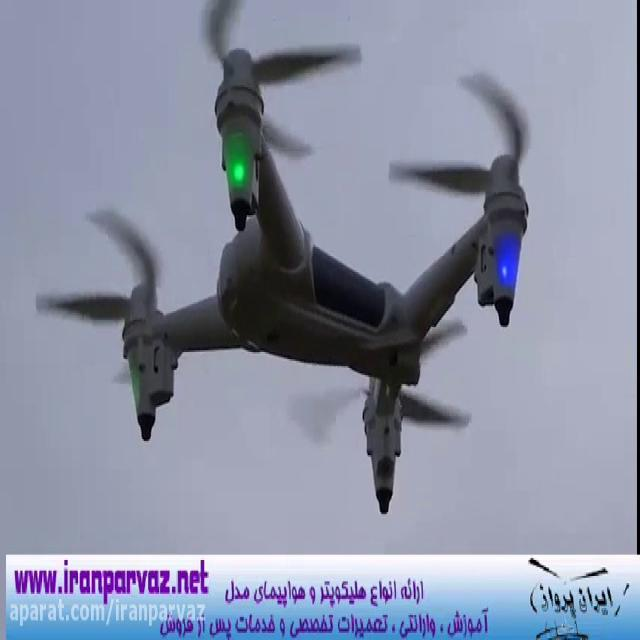drone: (31, 0, 537, 517)
